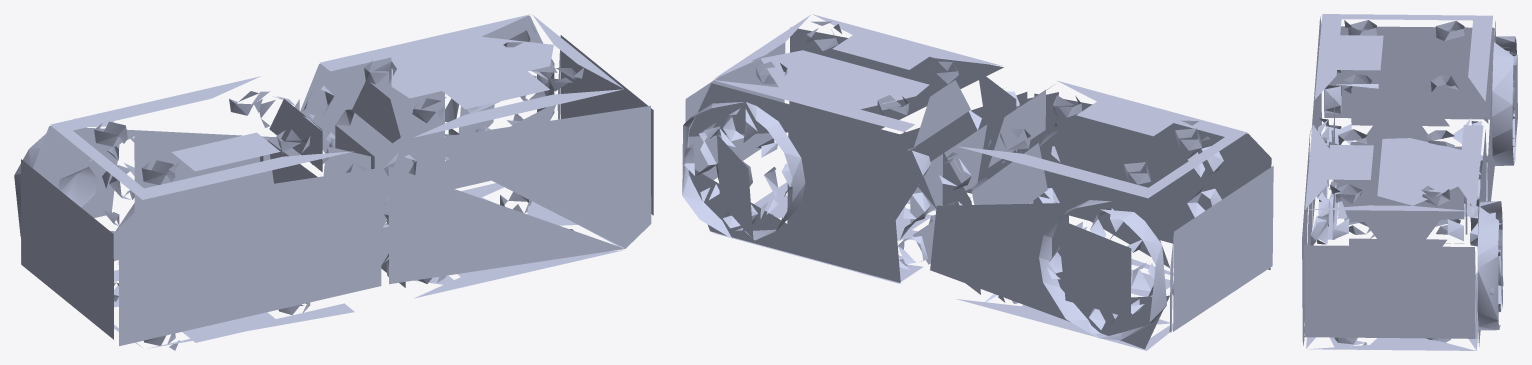
The model's file is part_10_opt.obj.
3 views of the same model, side by side, from view 1: azimuth 30°, elevation 25°; view 2: azimuth 150°, elevation 25°; view 3: azimuth 270°, elevation 25° (orthographic). The views are drawn at different scales.
Visible parts, largest first — view 1: Imported1_DC_Shell, NONE_DC_Shell; view 2: Imported1_DC_Shell, NONE_DC_Shell; view 3: NONE_DC_Shell, Imported1_DC_Shell.
Boxes of the visible parts, x1=… form: Imported1_DC_Shell: x1=14, y1=76, x2=381, y2=350; NONE_DC_Shell: x1=300, y1=14, x2=653, y2=298; Imported1_DC_Shell: x1=930, y1=80, x2=1273, y2=350; NONE_DC_Shell: x1=682, y1=14, x2=1027, y2=284; NONE_DC_Shell: x1=1302, y1=122, x2=1503, y2=350; Imported1_DC_Shell: x1=1311, y1=14, x2=1517, y2=243.
Size of the model in its own units: 72.9 by 24.43 by 29.55.
